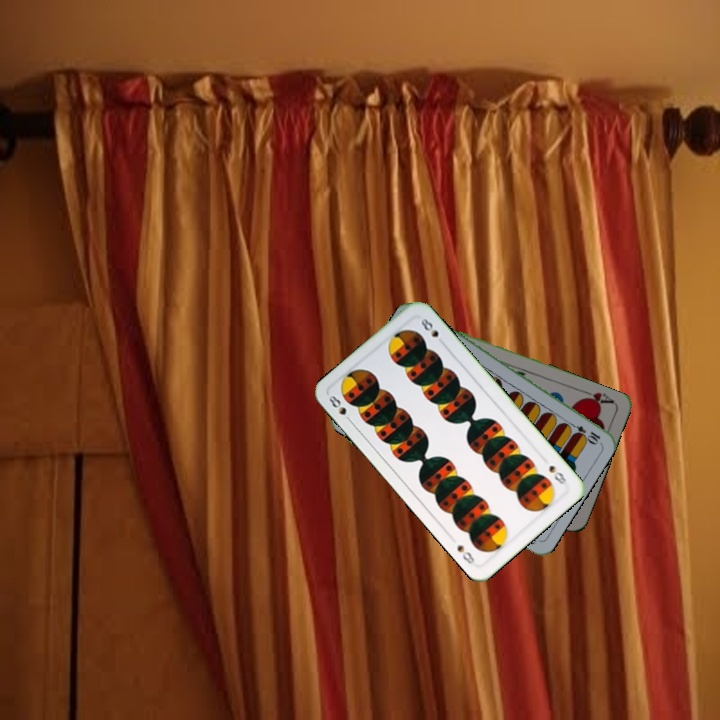E10: (565, 418, 603, 446)
HA: (577, 386, 617, 409)
S8: (325, 391, 355, 426), (545, 461, 569, 487)
